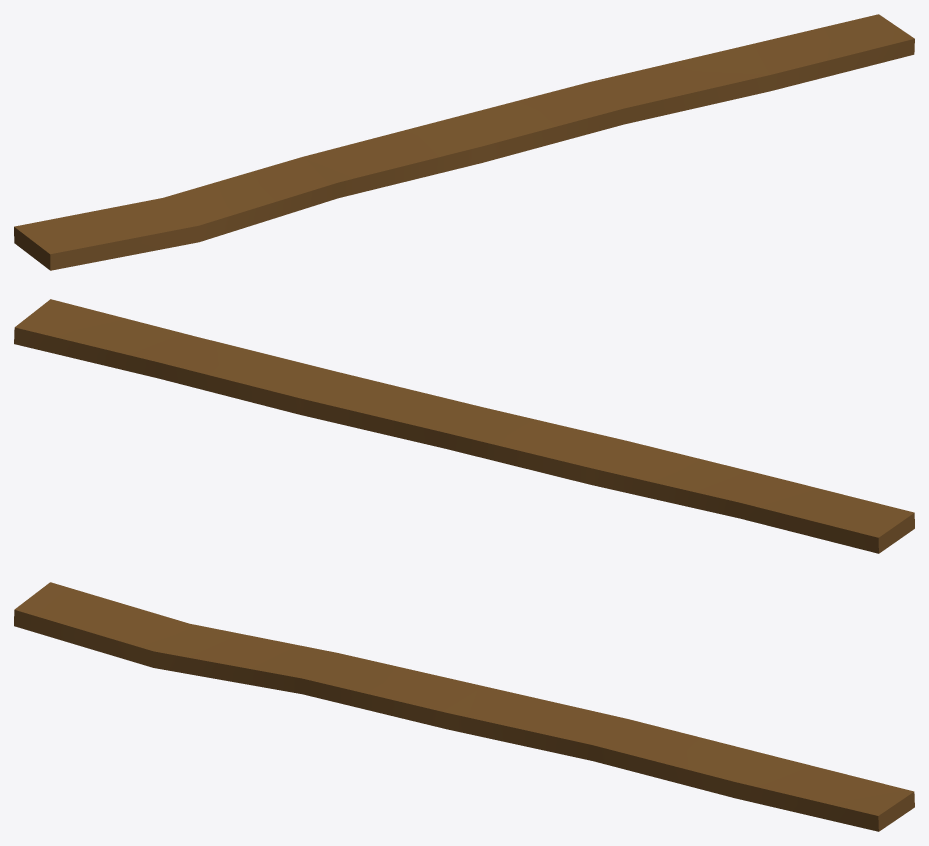
File: plank_03_a002.fbx
3 renders of one model, top to bottom at view 1: azimuth 30°, elevation 25°; view 2: azimuth 150°, elevation 25°; view 3: azimuth 330°, elevation 25°, orthographic.
Visible parts, largest first — view 1: Plank_03_a002; view 2: Plank_03_a002; view 3: Plank_03_a002.
Boxes of the visible parts, <box> form: Plank_03_a002: <box>14,14,914,270</box>; Plank_03_a002: <box>14,299,914,553</box>; Plank_03_a002: <box>14,582,914,831</box>.
Size of the model in its own units: 47.35 by 4.2 by 1.21.
